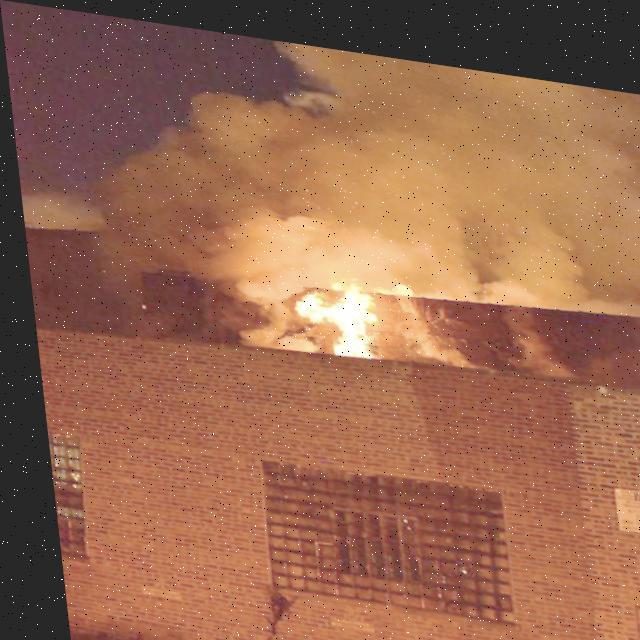Fire: (276, 258, 415, 356)
